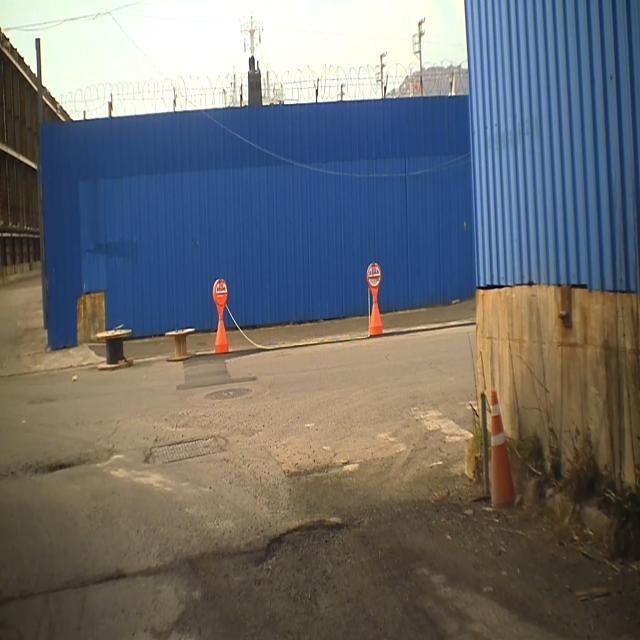pothole: (257, 492, 351, 578), (0, 432, 121, 496), (281, 449, 353, 489)
